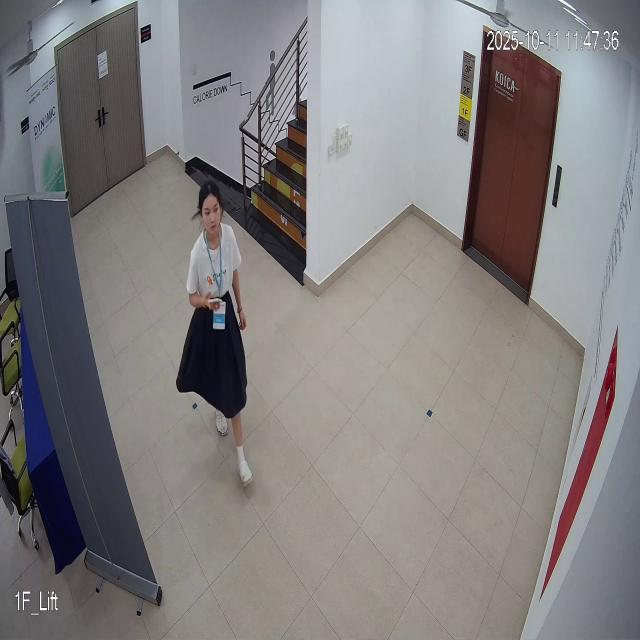face: (189, 176, 232, 248)
